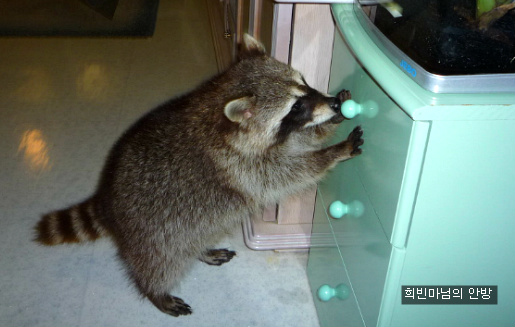raccoon: (51, 36, 402, 313)
